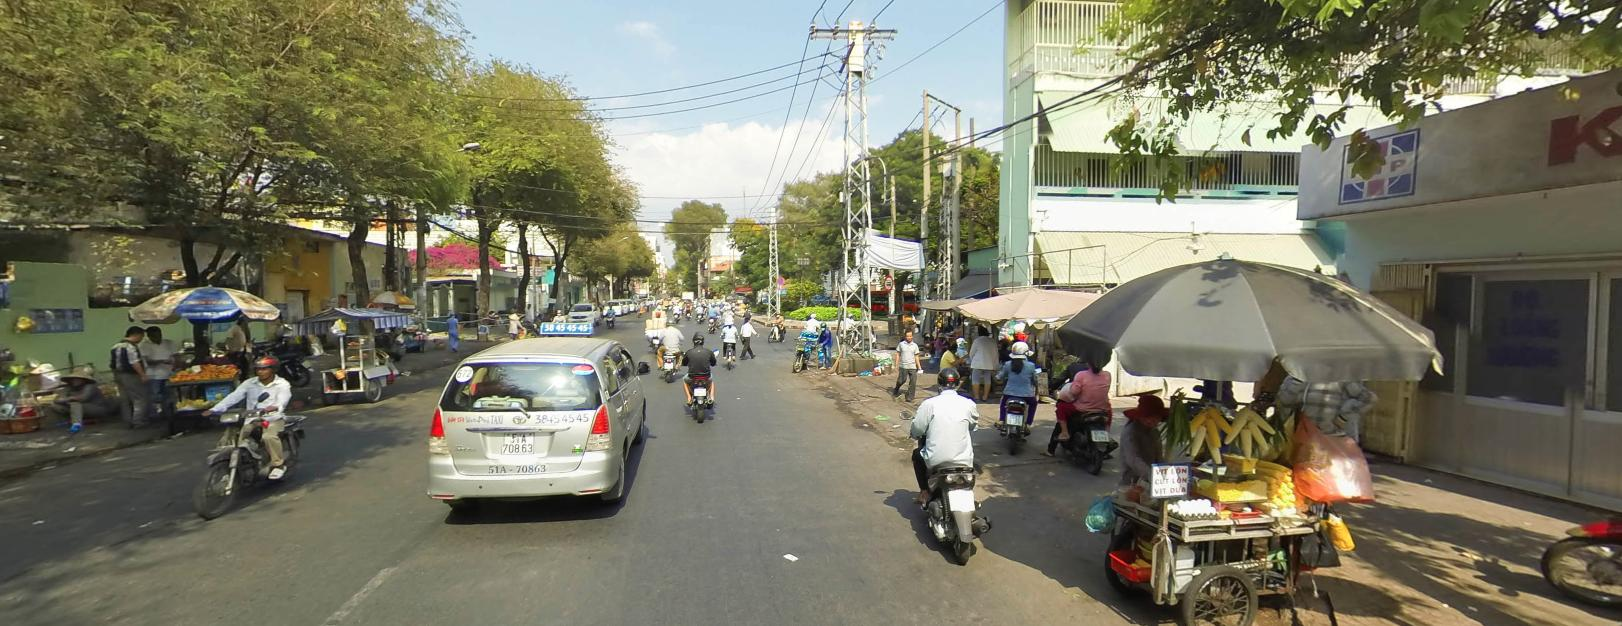Cam dung va do: (776, 274, 785, 284)
